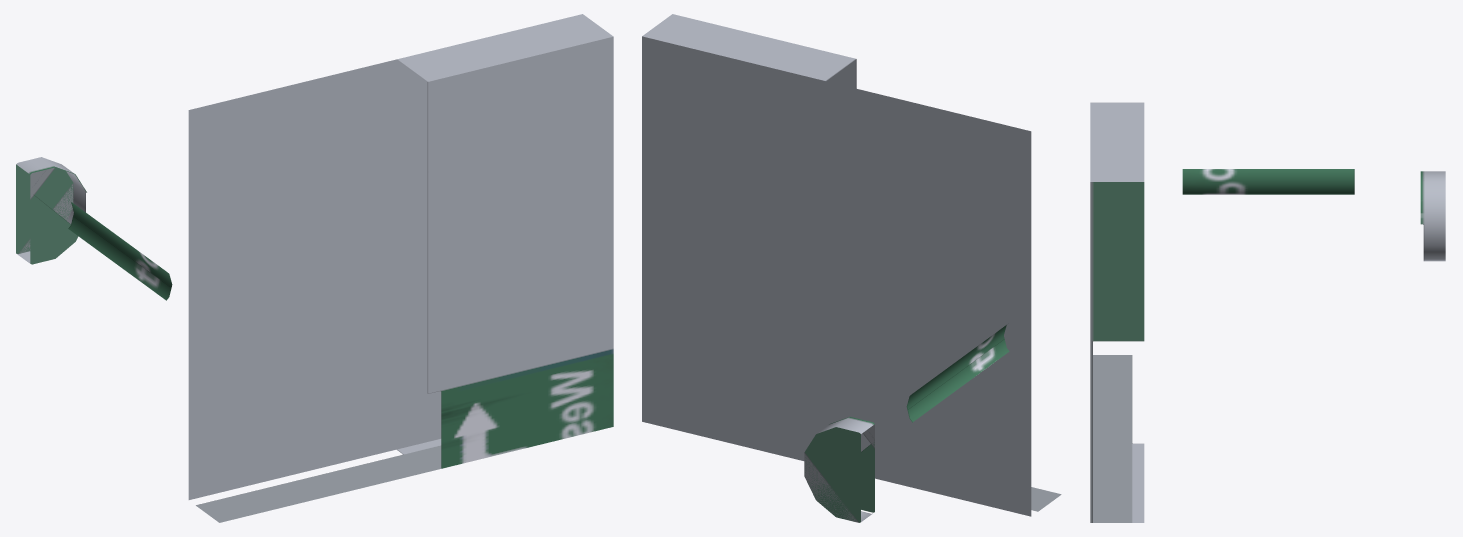
File: section-1.obj
The picture shows the model from 3 angles, left to right: view 1: azimuth 30°, elevation 25°; view 2: azimuth 150°, elevation 25°; view 3: azimuth 270°, elevation 25°; orthographic projection. The views are drawn at different scales.
Size of the model in its own units: 0.9859 by 0.9324 by 0.8889.
